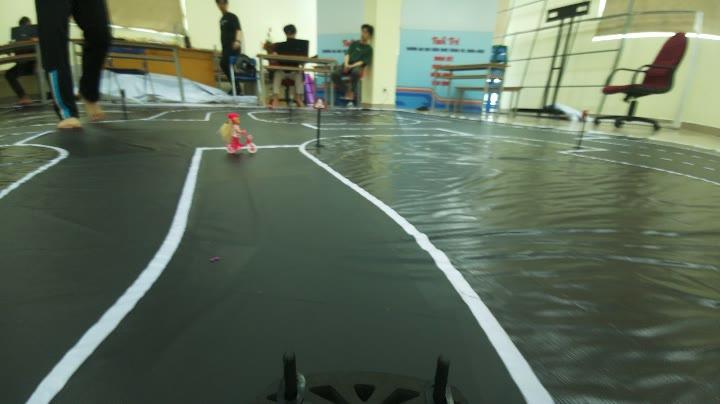pedestrian: (216, 111, 262, 158)
